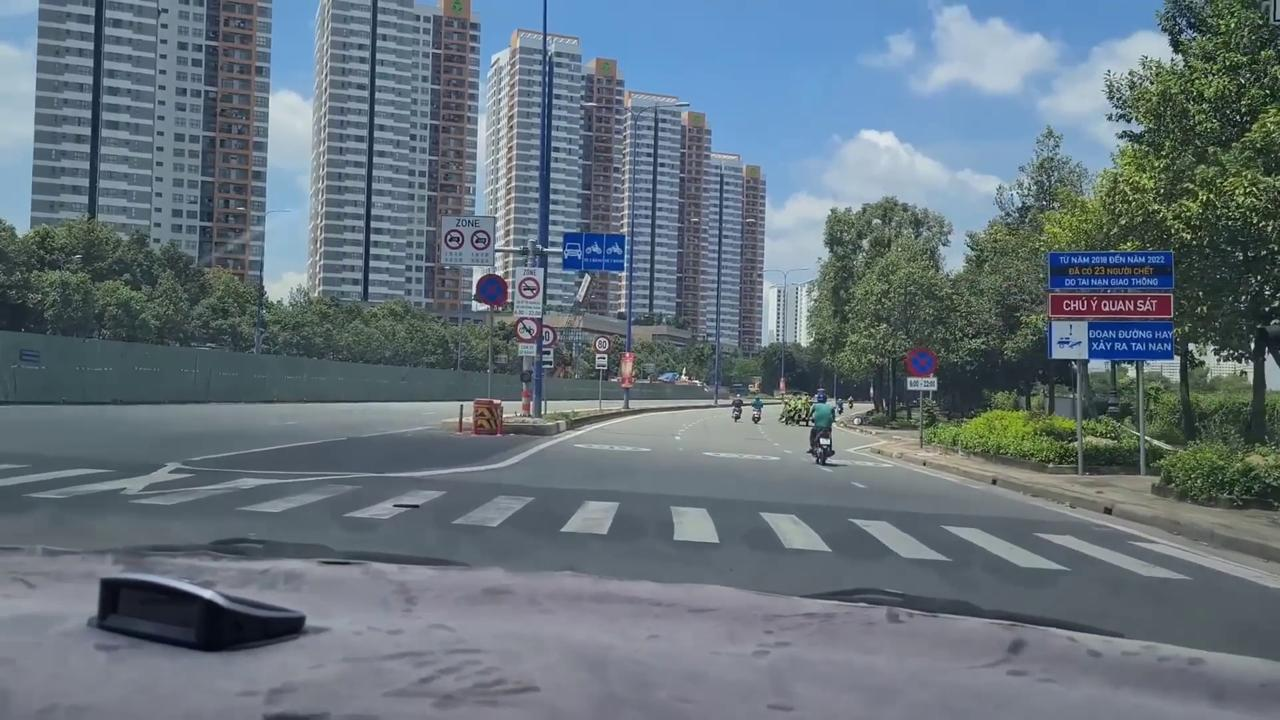Biển phụ: (908, 377, 938, 390), (518, 343, 537, 357), (594, 352, 608, 370)
Cấm cac phương tiện hoạt động trong khung giờ cố định: (440, 214, 496, 268), (514, 266, 542, 318)
Cấm dừng - Cấm đỗ: (475, 272, 509, 308), (904, 346, 938, 377)
Cấm xe máy: (515, 316, 538, 344)
Giới hạn tốc độ 80Km/h: (593, 334, 611, 353)
Khác: (1045, 250, 1175, 362)
Làn đường cho từng xe: (561, 230, 627, 273)
